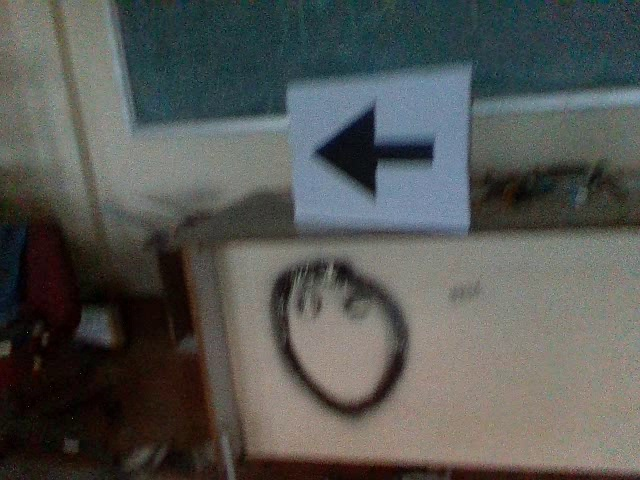Left: (309, 98, 446, 208)
